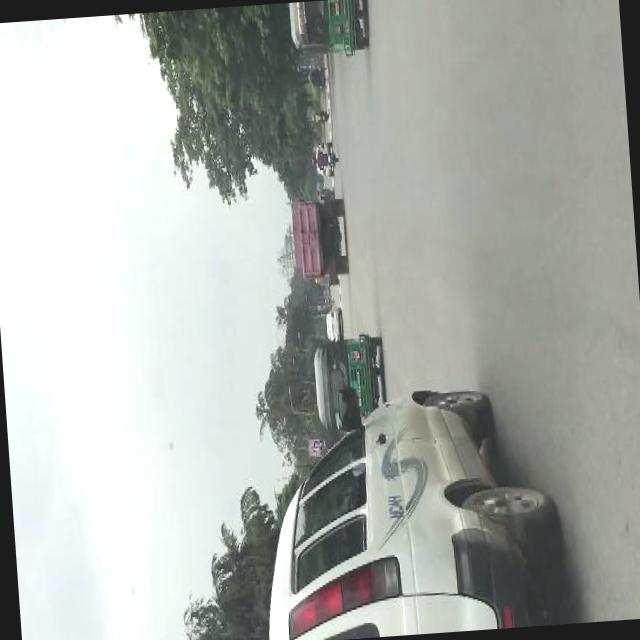car: (323, 306, 342, 341)
motorcycle: (309, 330, 391, 434), (285, 0, 373, 60), (305, 64, 329, 90), (310, 150, 338, 170), (310, 109, 330, 126)
truck: (254, 414, 565, 640), (288, 195, 350, 281)
